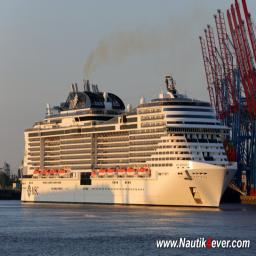cruises: (19, 73, 239, 212)
